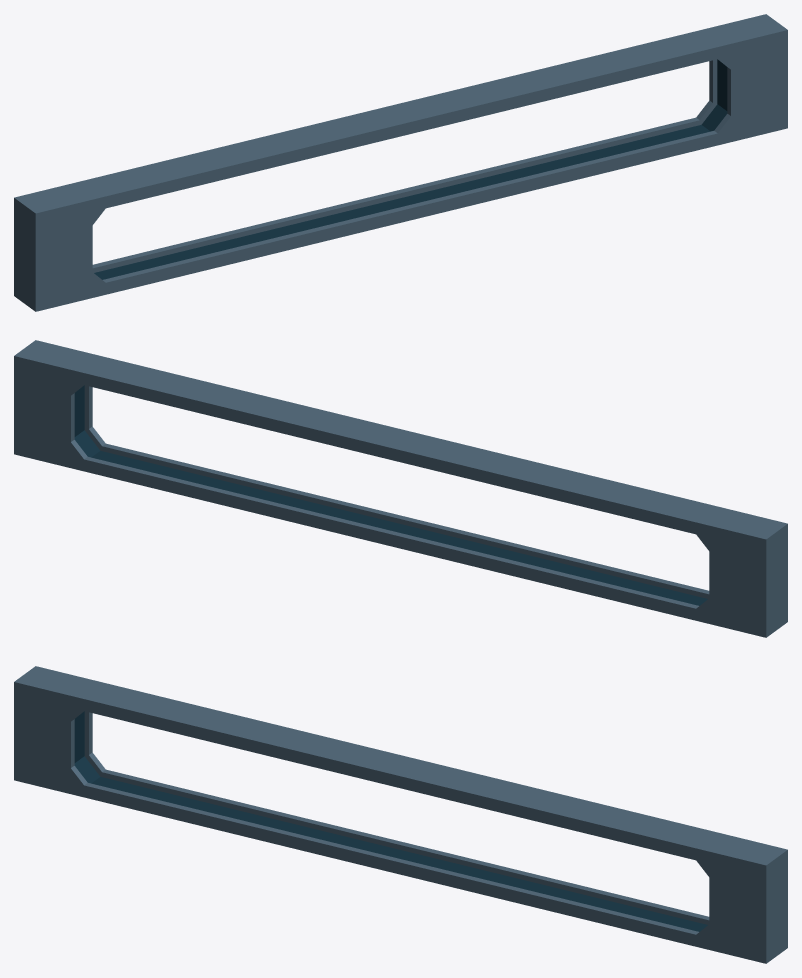
File: W1_WallWindow1B_4m_Top.fbx
3 renders of one model, top to bottom at view 1: azimuth 30°, elevation 25°; view 2: azimuth 150°, elevation 25°; view 3: azimuth 330°, elevation 25°, orthographic.
Parts seen in each view (by area): view 1: W1_WallWindow1B_4m_Top.001; view 2: W1_WallWindow1B_4m_Top.001; view 3: W1_WallWindow1B_4m_Top.001.
Part boxes in pixels (x1,y1,x2,y2): W1_WallWindow1B_4m_Top.001: (14,14,787,311); W1_WallWindow1B_4m_Top.001: (14,340,787,637); W1_WallWindow1B_4m_Top.001: (14,666,787,963).
Size of the model in its own units: 4 by 0.5 by 0.2.
